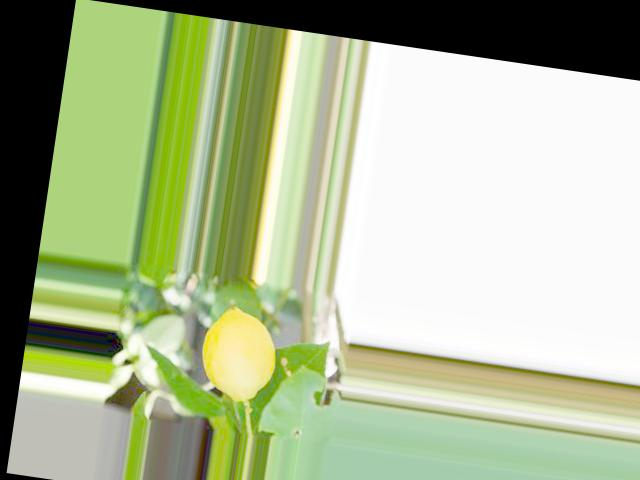lemon: (176, 288, 285, 412)
